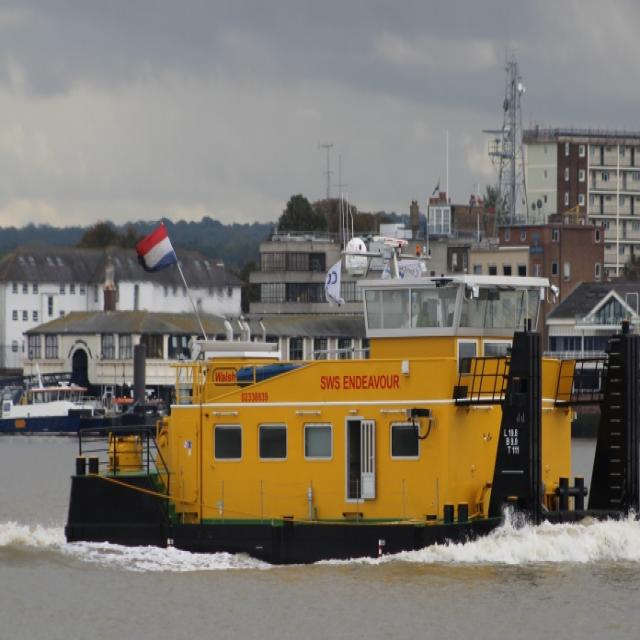tugboat: (62, 190, 640, 583)
